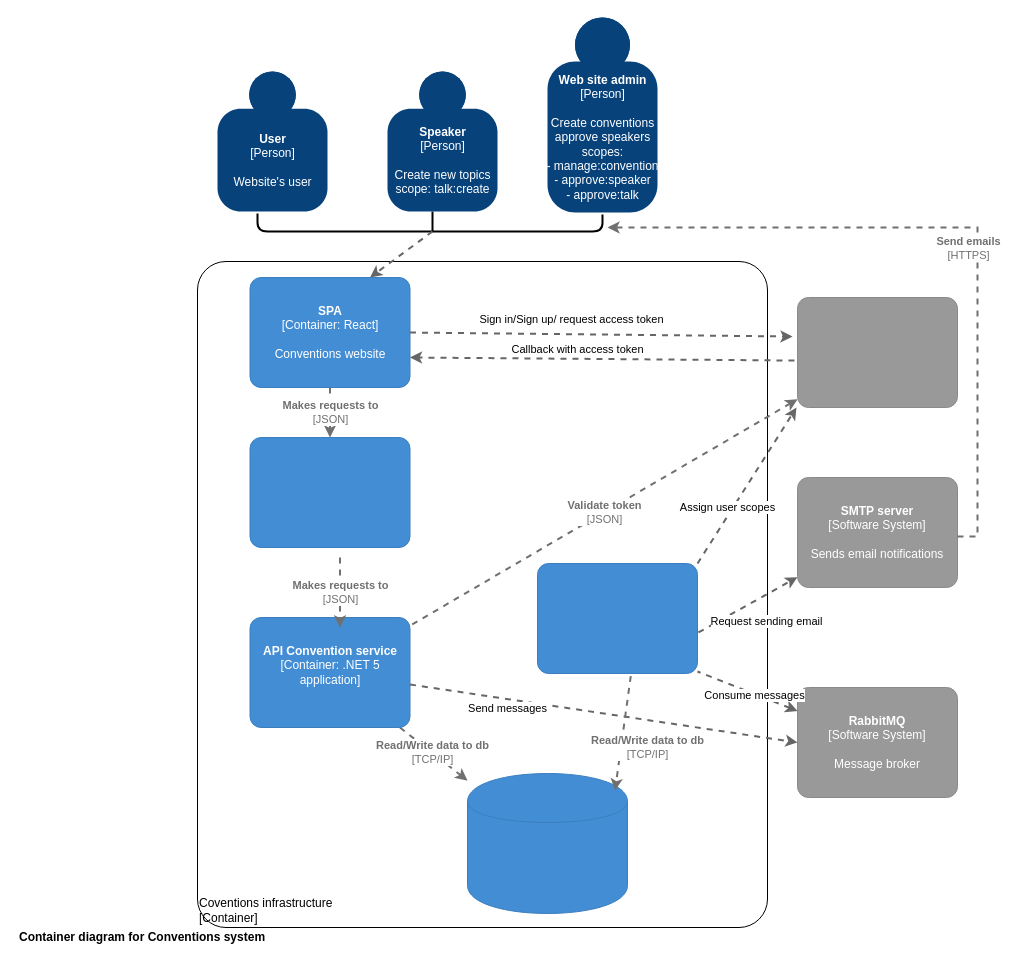
Some shapes in this 1017 by 964 pixel diagram are drawn without their labels. The shapes that lost their labels are listed below. From the top down, each one's centre as x and y in pixels, then its label:
the point at 877,352: Single Sign On [Software System] auth0
the point at 329,492: API Gateway [Container: .NET 5 (Ocelot)] Gateway application
the point at 617,618: Convention Worker [Container: .NET 5 service application]
the point at 547,843: Database [Container: MS SQL] Coventions data storage
